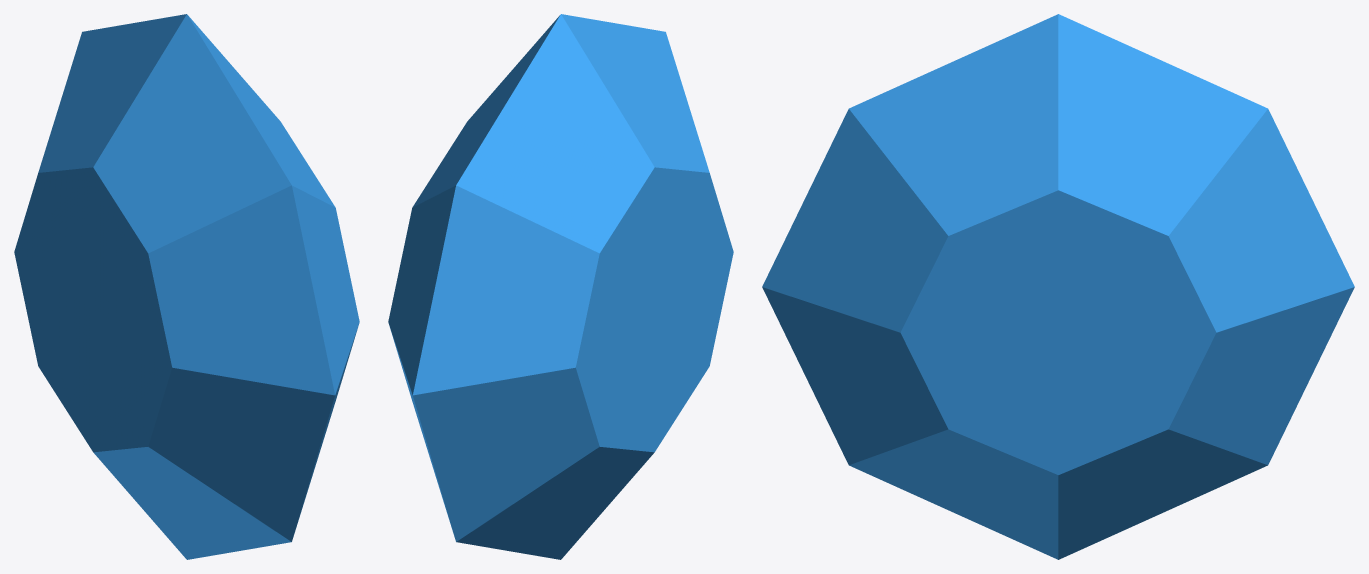
Rendered from phiras.obj.
3 renders of one model, left to right at view 1: azimuth 30°, elevation 25°; view 2: azimuth 150°, elevation 25°; view 3: azimuth 270°, elevation 25°, orthographic.
Parts seen in each view (by area): view 1: Sapphire_Plane.001; view 2: Sapphire_Plane.001; view 3: Sapphire_Plane.001.
Boxes of the visible parts, box(x1,y1,x2,y2) form: Sapphire_Plane.001: box(14, 14, 359, 559); Sapphire_Plane.001: box(388, 14, 733, 559); Sapphire_Plane.001: box(762, 14, 1354, 559).
Bounding box in the file's own units: 0.3275 × 0.9113 × 0.8967.
